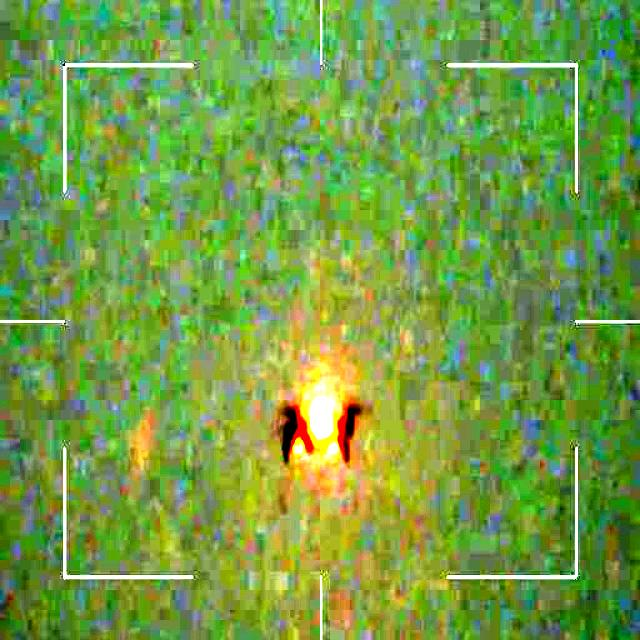bird: (280, 380, 369, 464)
